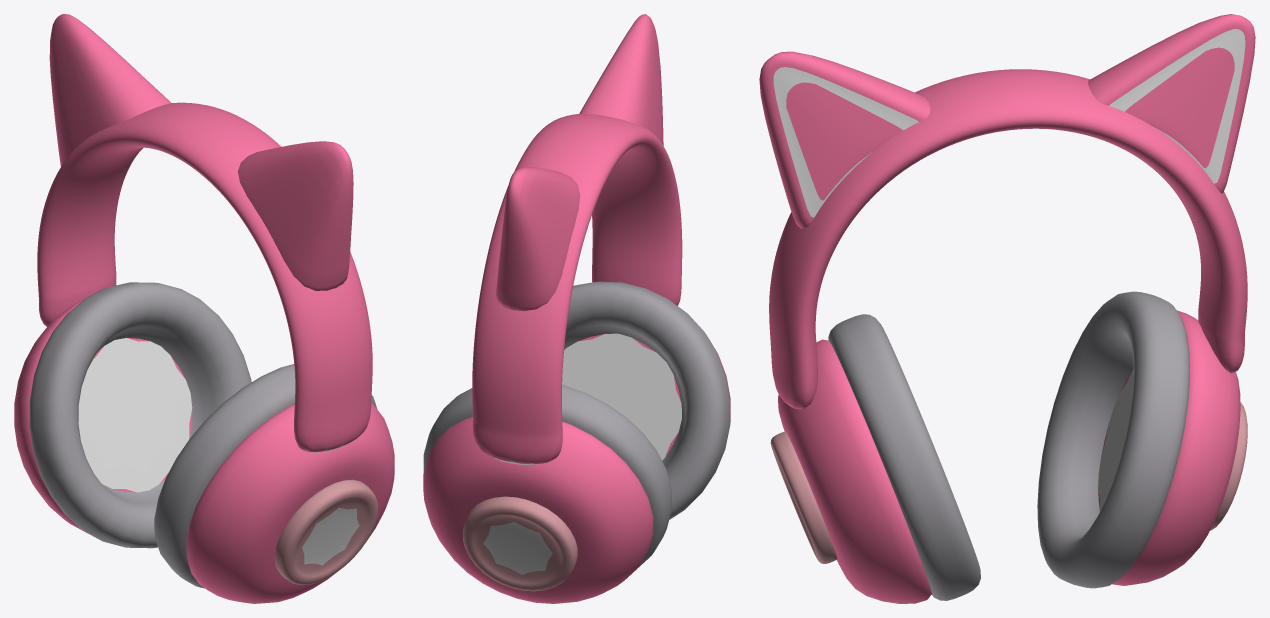
Rendered from headphones1.glb.
The picture shows the model from 3 angles, left to right: view 1: azimuth 30°, elevation 25°; view 2: azimuth 150°, elevation 25°; view 3: azimuth 270°, elevation 25°; orthographic projection. The views are drawn at different scales.
Visible parts, largest first — view 1: headphones1; view 2: headphones1; view 3: headphones1.
Part boxes in pixels (<box>): headphones1: <box>14,14,394,603</box>; headphones1: <box>423,14,730,603</box>; headphones1: <box>759,14,1255,603</box>.
Size of the model in its own units: 0.1668 by 0.2961 by 0.2436.
